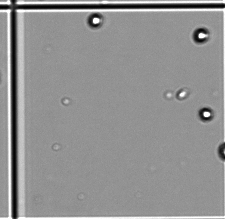Living Cell: (192, 26, 211, 44), (87, 12, 104, 29), (198, 106, 214, 122)
